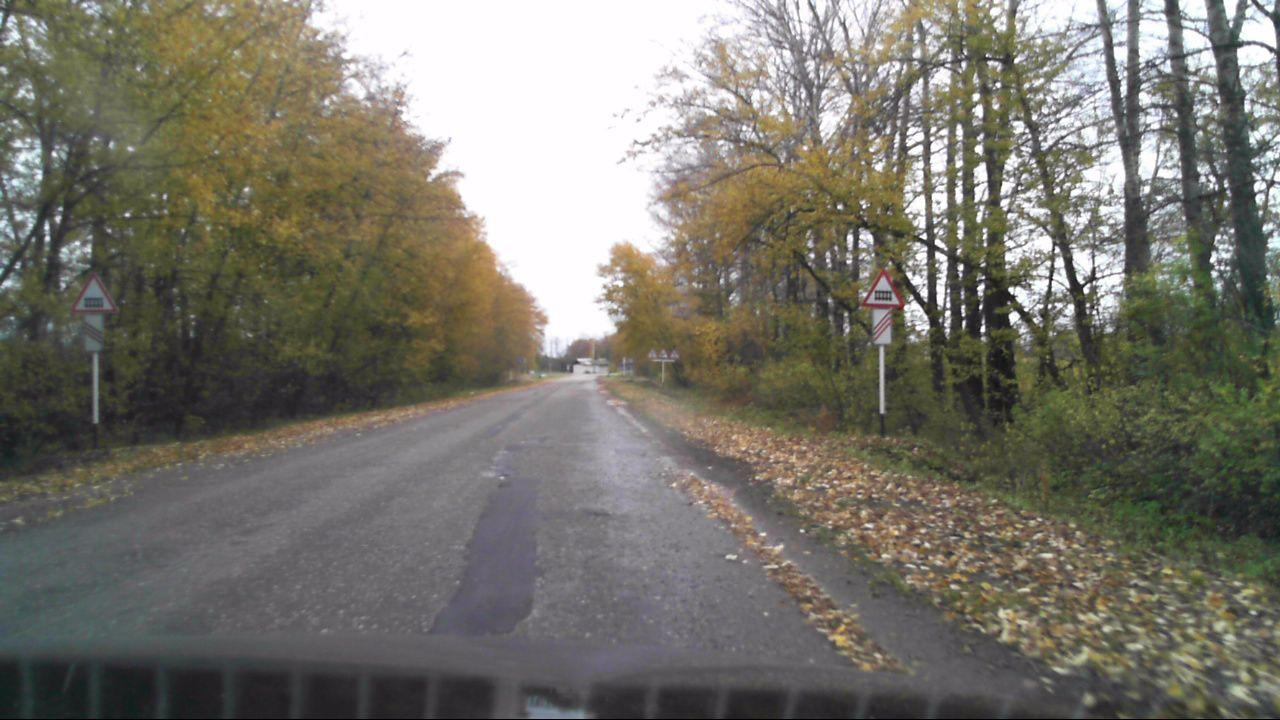1_1: (70, 270, 119, 315), (863, 270, 902, 307)
1_4_3: (873, 308, 892, 345)
1_4_6: (84, 314, 104, 352)
